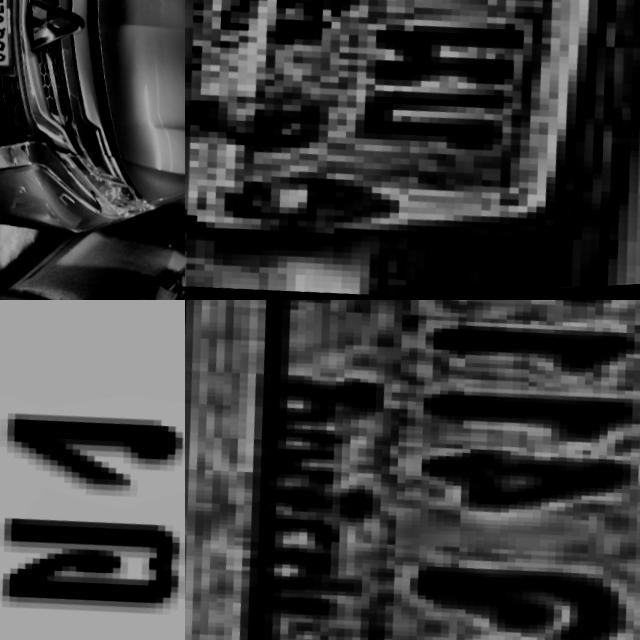license-plate: (185, 300, 640, 640), (185, 0, 640, 287), (0, 300, 185, 640)
